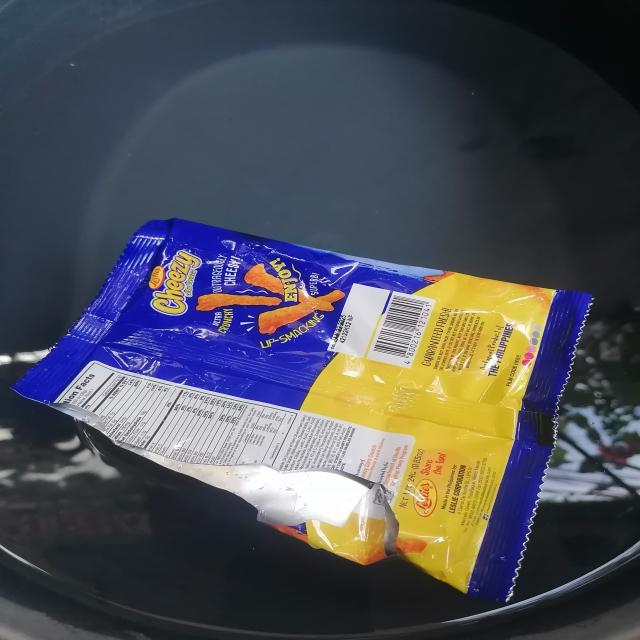Plastic Wrapper: (15, 219, 592, 601)
